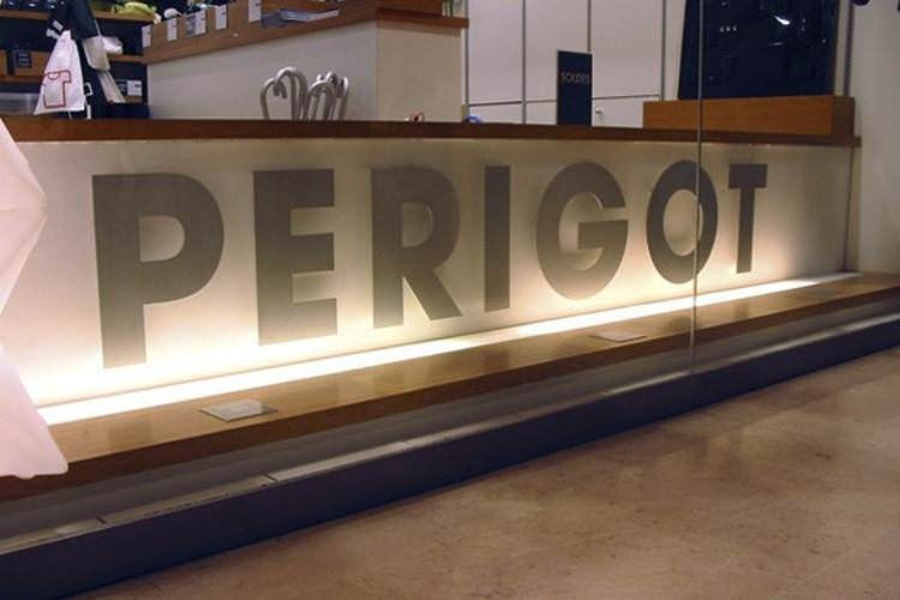text: (97, 157, 112, 374), (113, 157, 128, 374), (129, 157, 144, 374), (145, 157, 160, 374), (161, 157, 176, 374), (177, 157, 192, 374), (193, 157, 208, 374), (209, 157, 224, 374), (225, 157, 240, 374), (241, 157, 256, 374), (257, 157, 272, 374), (273, 157, 288, 374), (289, 157, 304, 374), (305, 157, 320, 374), (321, 157, 336, 374), (337, 157, 352, 374), (353, 157, 368, 374), (369, 157, 384, 374), (385, 157, 400, 374), (401, 157, 416, 374), (417, 157, 432, 374), (433, 157, 448, 374), (449, 157, 464, 374), (465, 157, 480, 374), (481, 157, 496, 374), (497, 157, 512, 374), (513, 157, 528, 374), (529, 157, 544, 374), (545, 157, 560, 374), (561, 157, 576, 374), (577, 157, 592, 374), (593, 157, 608, 374), (609, 157, 624, 374), (625, 157, 640, 374), (641, 157, 656, 374), (657, 157, 672, 374), (673, 157, 688, 374), (689, 157, 704, 374), (705, 157, 720, 374), (721, 157, 736, 374), (737, 157, 752, 374), (753, 157, 768, 374), (89, 157, 96, 374), (769, 157, 772, 374), (561, 71, 576, 85), (577, 71, 591, 85)
